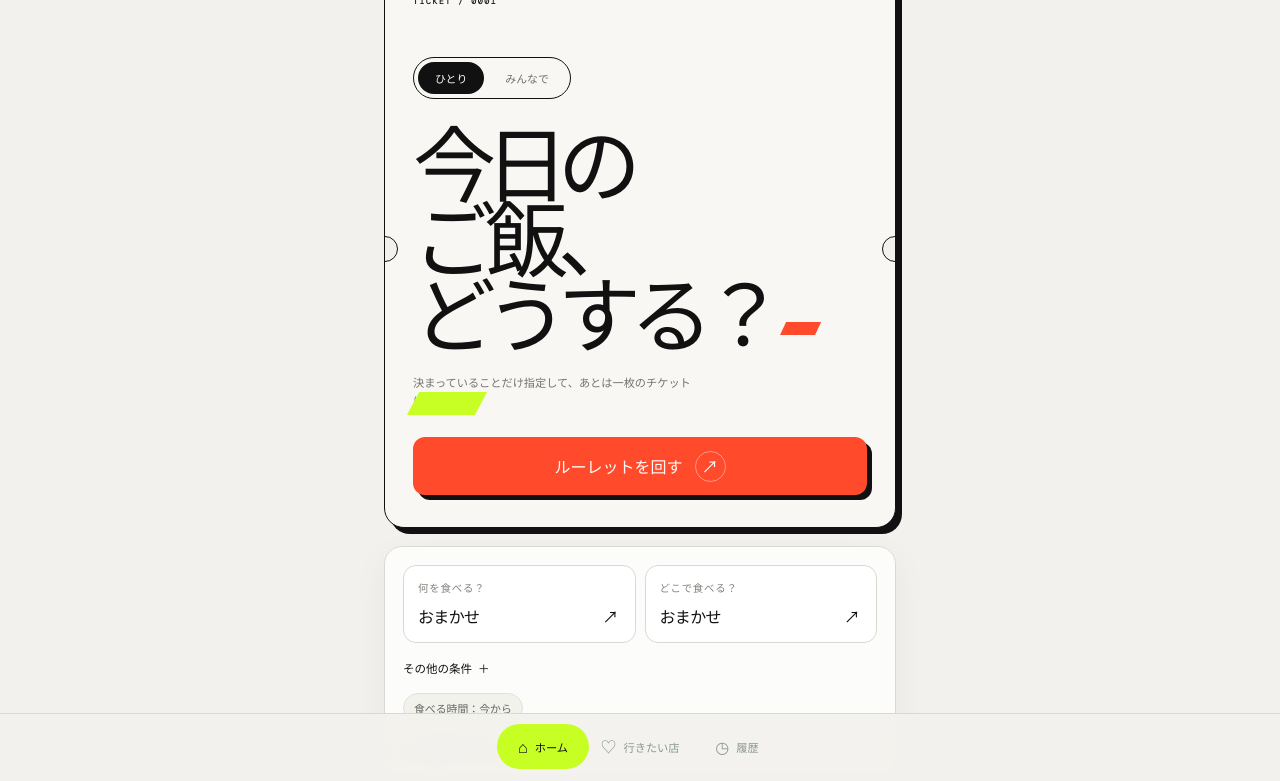
meal roulette user flows › registers group members and uses their weighted food candidates
Click the button "みんなで": [527, 78] box [488, 62, 566, 94]
(page scrolled)
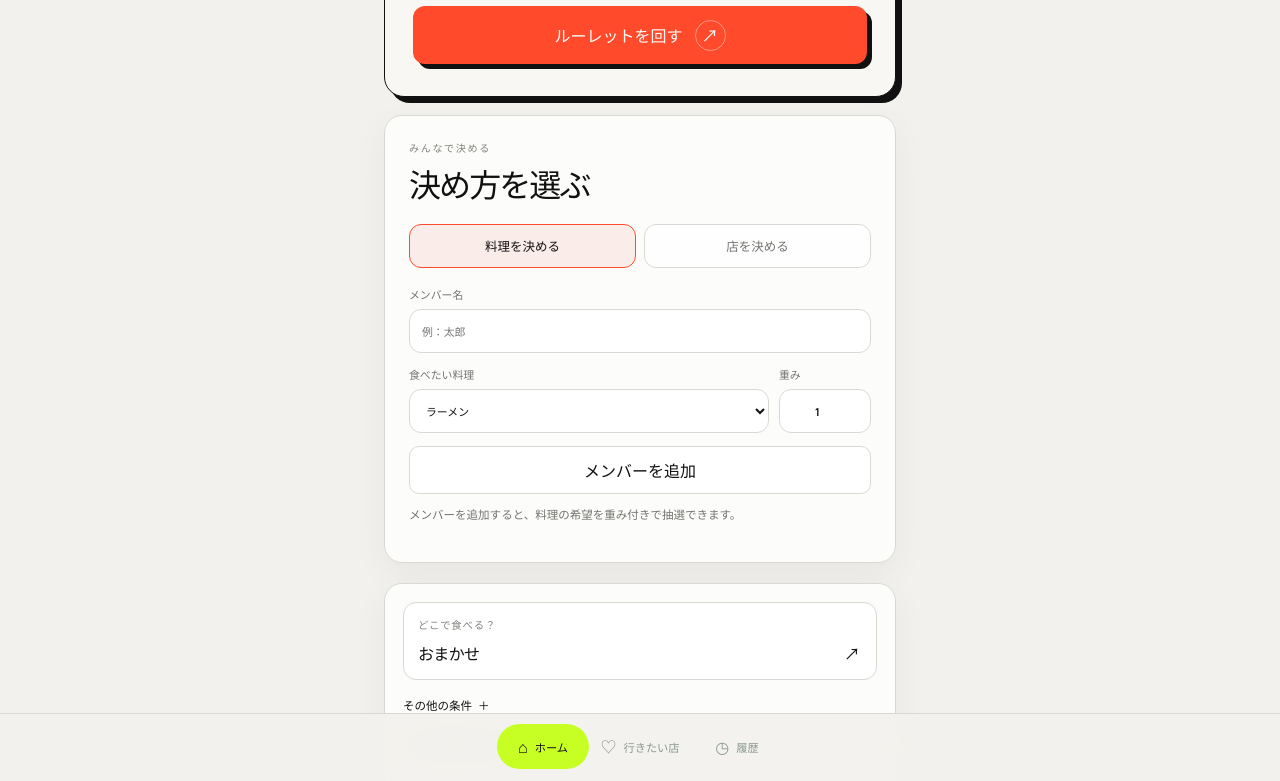
In the field labelled "メンバー名": [640, 331] box [409, 309, 871, 353], type "太郎"
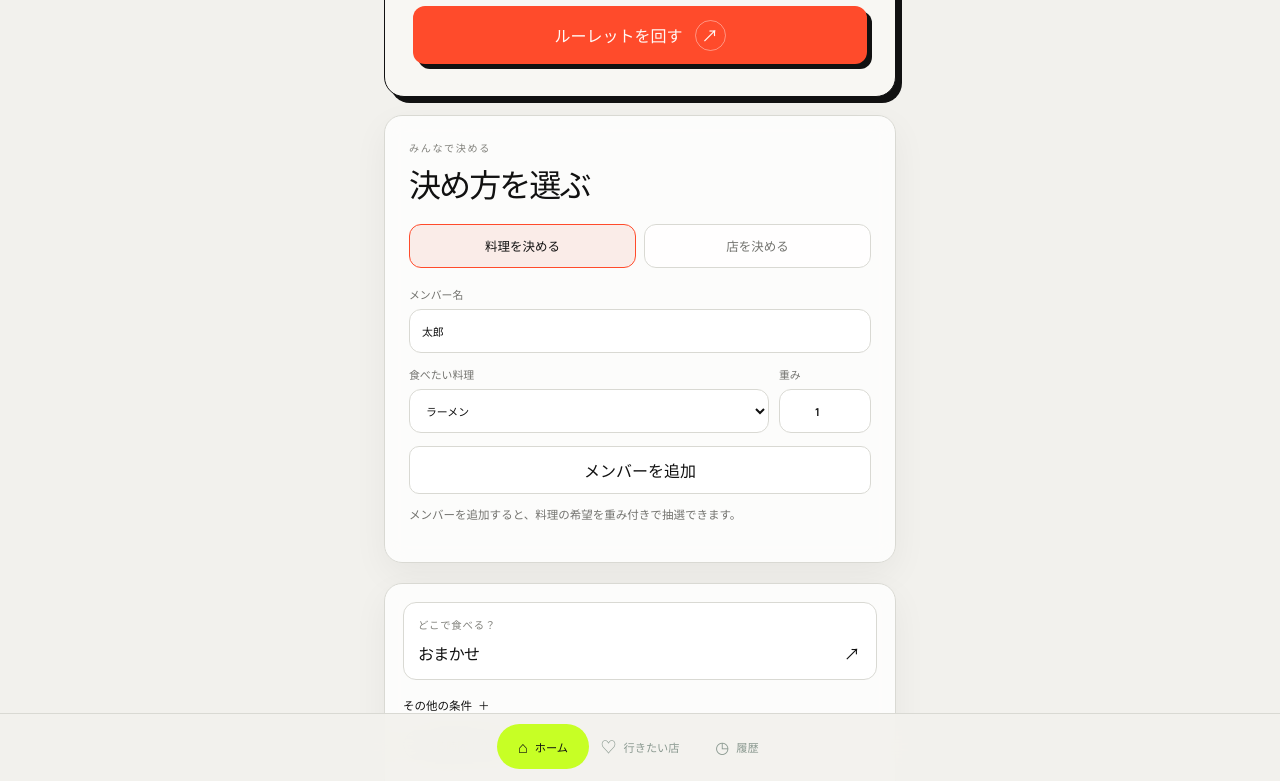
Click the button "メンバーを追加": [640, 470] box [409, 446, 871, 494]
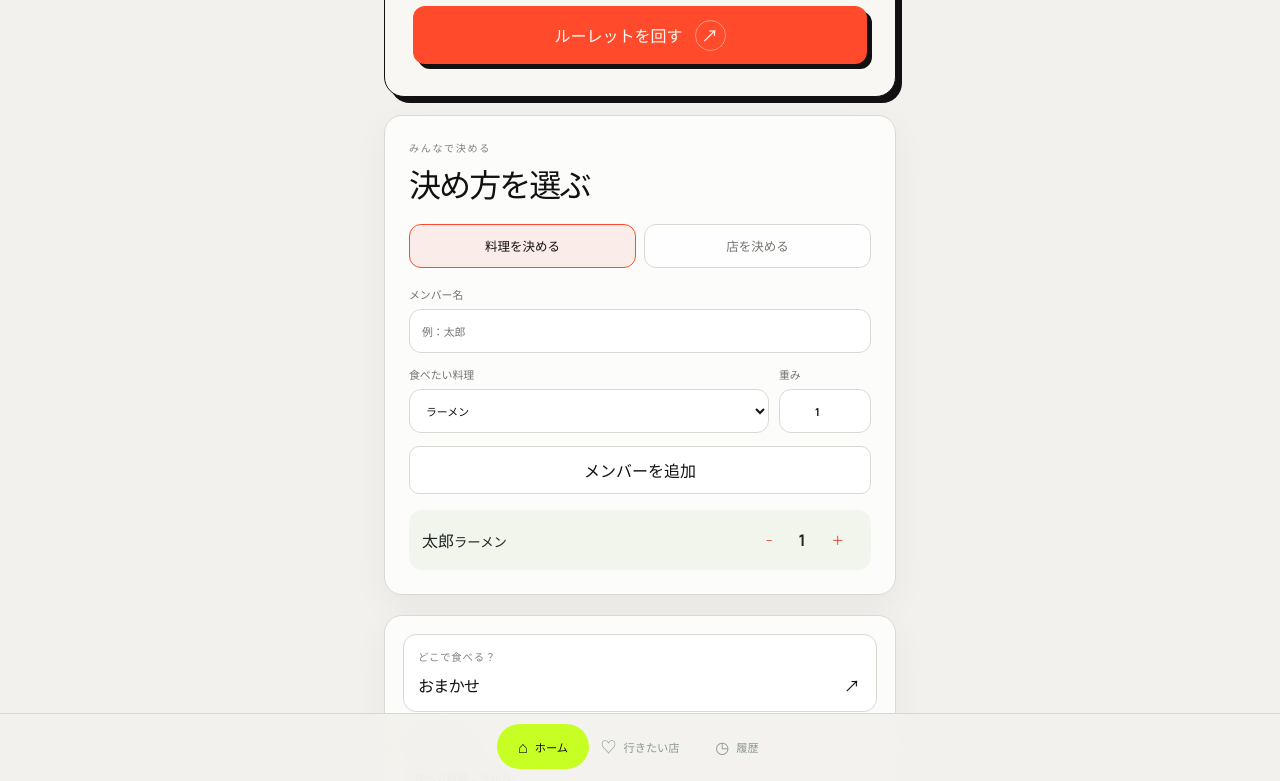
Result: the text "太郎" is shown at [422, 530, 454, 552]
Click the button "ルーレットを回す ↗": [640, 35] box [413, 6, 867, 64]
(page scrolled)
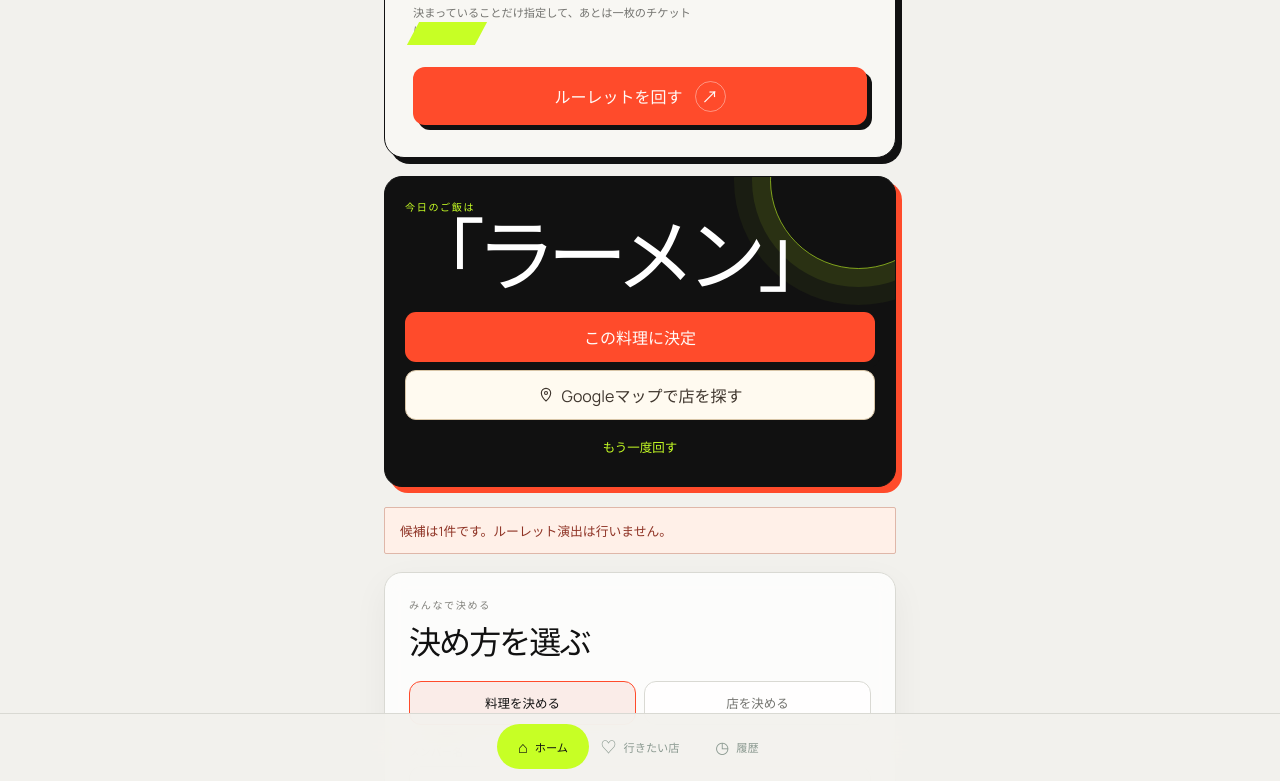
Result: the heading "「ラーメン」" is shown at [405, 219, 875, 291]
